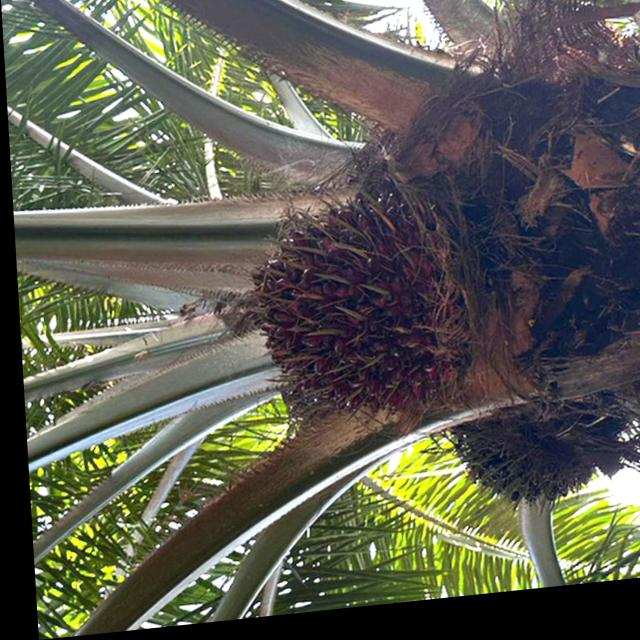ripe: (240, 186, 431, 429), (442, 380, 604, 531)
